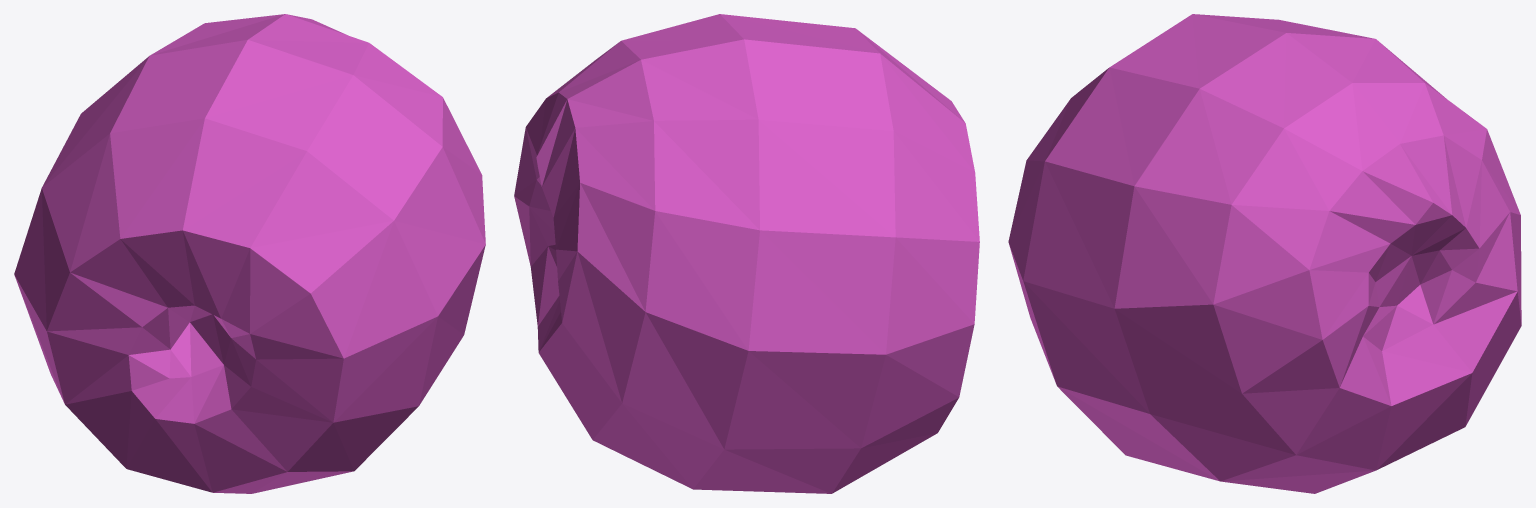
File: apple.glb
The picture shows the model from 3 angles, left to right: view 1: azimuth 30°, elevation 25°; view 2: azimuth 150°, elevation 25°; view 3: azimuth 270°, elevation 25°; orthographic projection. The views are drawn at different scales.
Parts seen in each view (by area): view 1: Apple; view 2: Apple; view 3: Apple.
Part boxes in pixels (x1,y1,x2,y2): Apple: (14,14,485,493); Apple: (514,14,979,493); Apple: (1008,14,1521,493).
Bounding box in the file's own units: 2.77 × 2.69 × 2.78.
